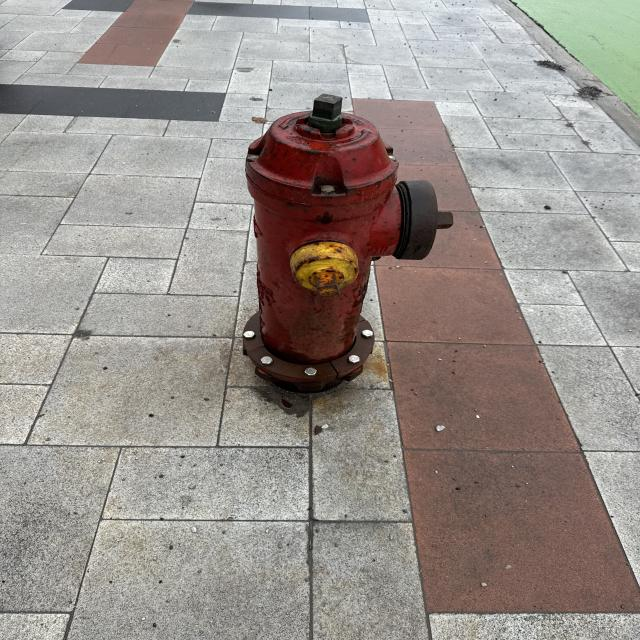Fire hydrant: (240, 93, 454, 390)
